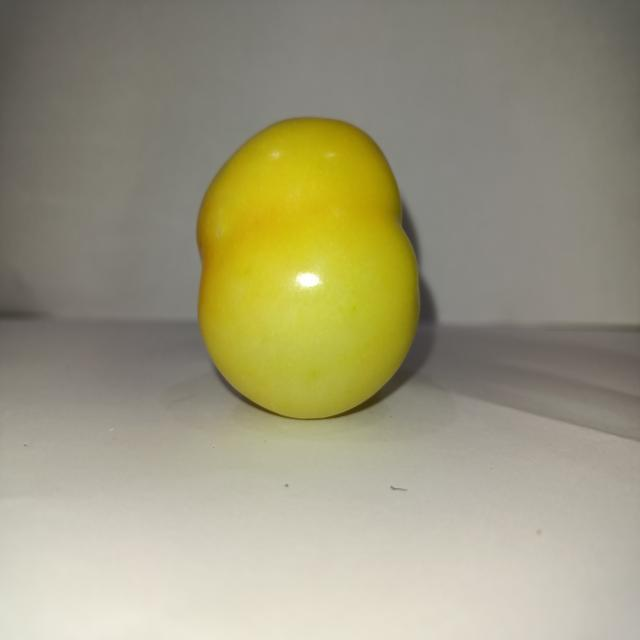Red: (194, 115, 422, 420)
